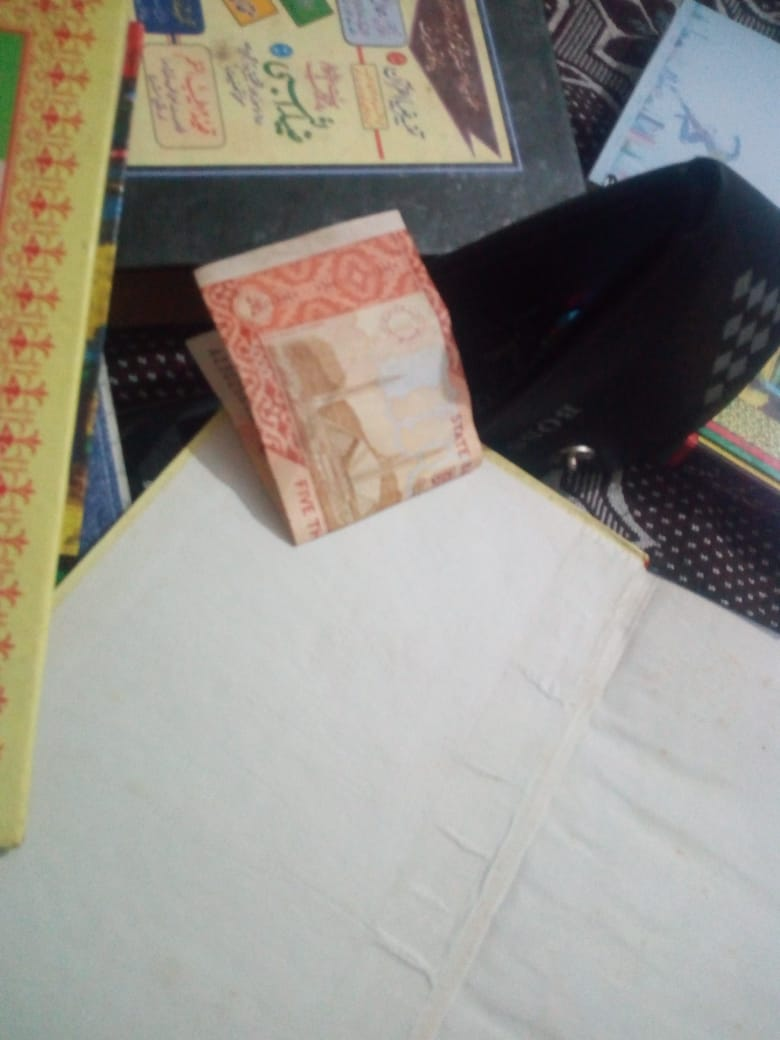5000 rupee: (191, 204, 514, 575)
